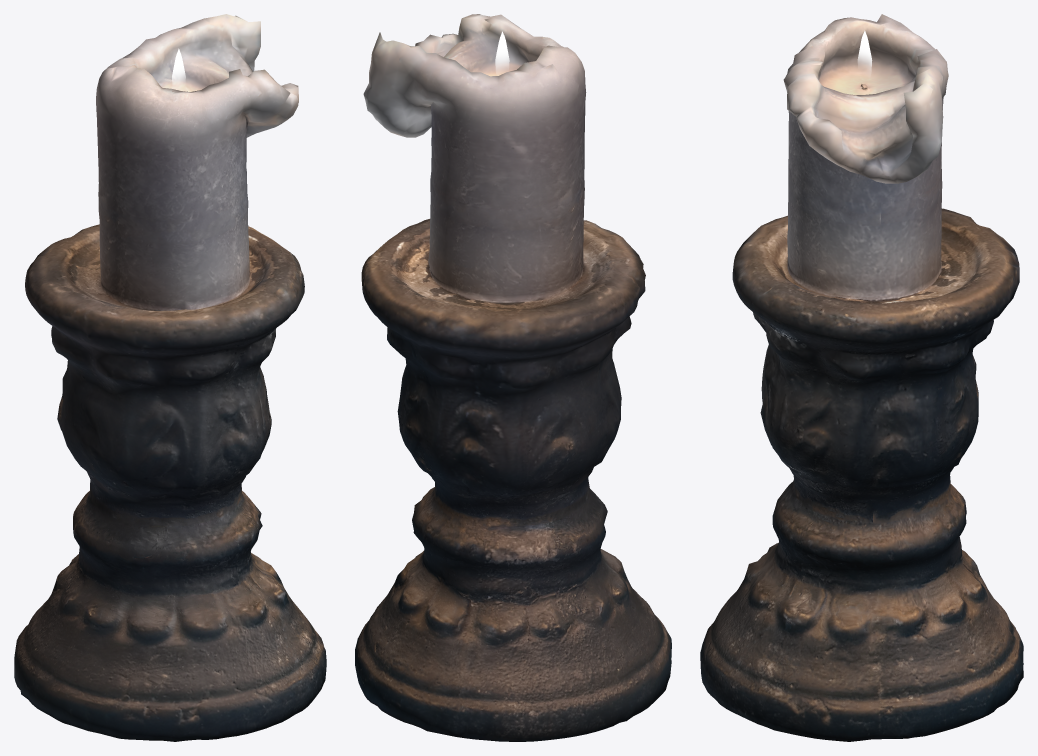
File: cozy_candle.glb
3 views of the same model, side by side, from view 1: azimuth 30°, elevation 25°; view 2: azimuth 150°, elevation 25°; view 3: azimuth 270°, elevation 25° (orthographic). The views are drawn at different scales.
Visible parts, largest first — view 1: Candle4; view 2: Candle4; view 3: Candle4.
Boxes of the visible parts, x1,y1,x2,y2 form: Candle4: (14, 14, 326, 741); Candle4: (355, 14, 671, 741); Candle4: (700, 14, 1023, 741).
Size of the model in its own units: 5.71 by 12.71 by 5.7.
Materials: 2 (2 with a texture image).
